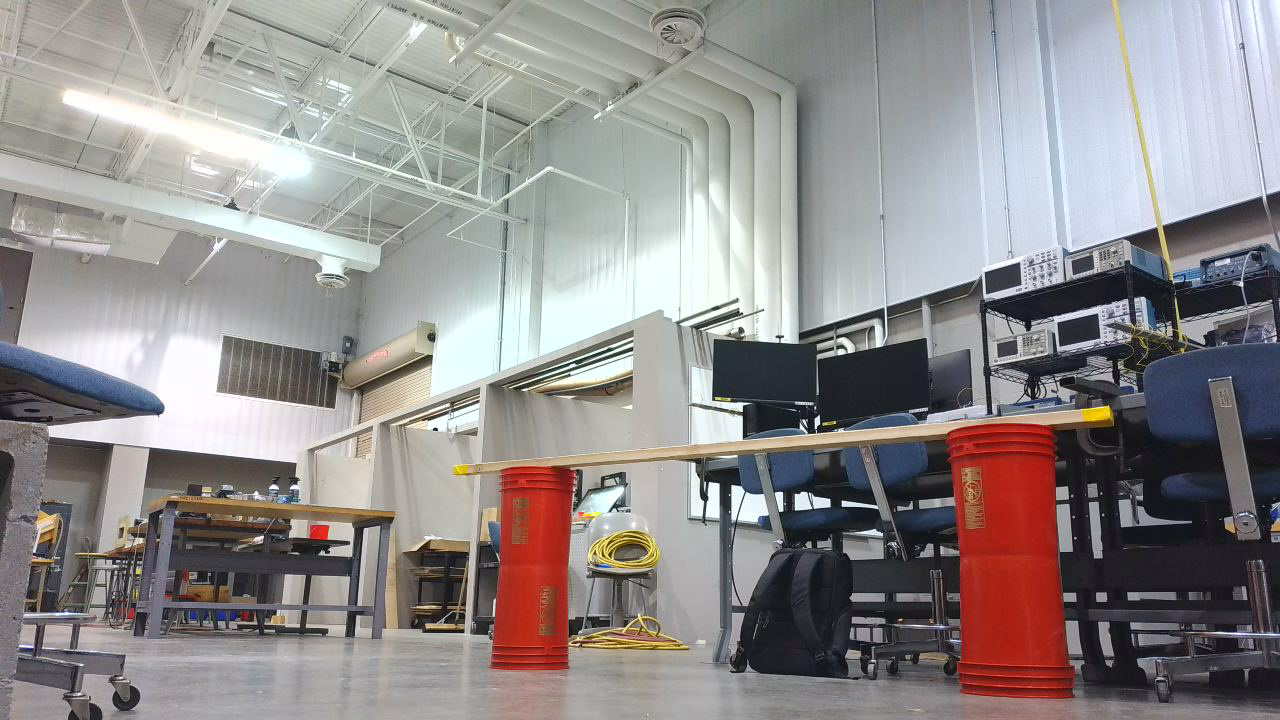red_bucketArch: (490, 417, 1081, 708)
